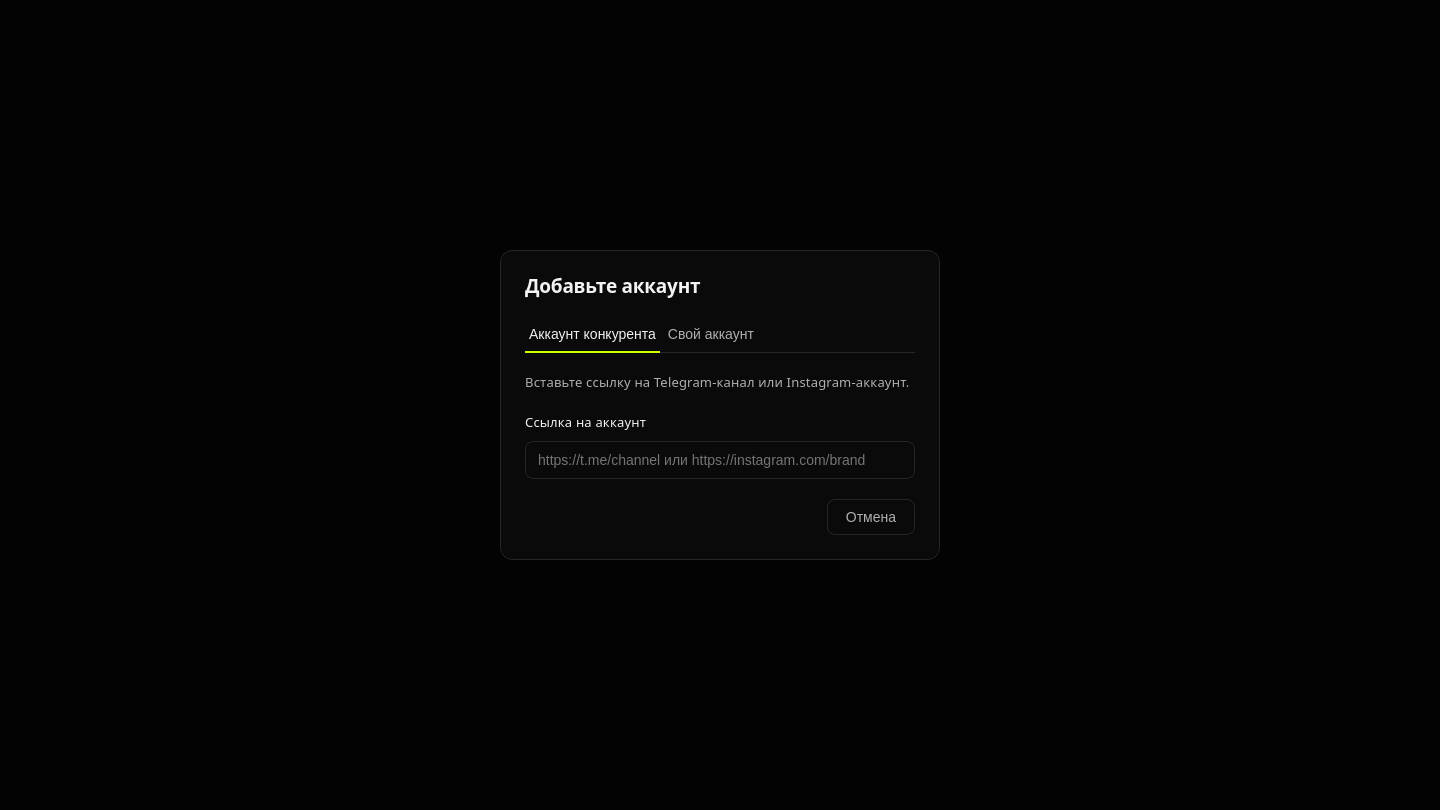
it: AddAccountModal › shows the resolved channel after a link is pasted
This screenshot has width=1440, height=810.
Type "https://t.me/somechannel" into the field labelled "Ссылка на аккаунт" at (720, 460), box [525,441,915,479]
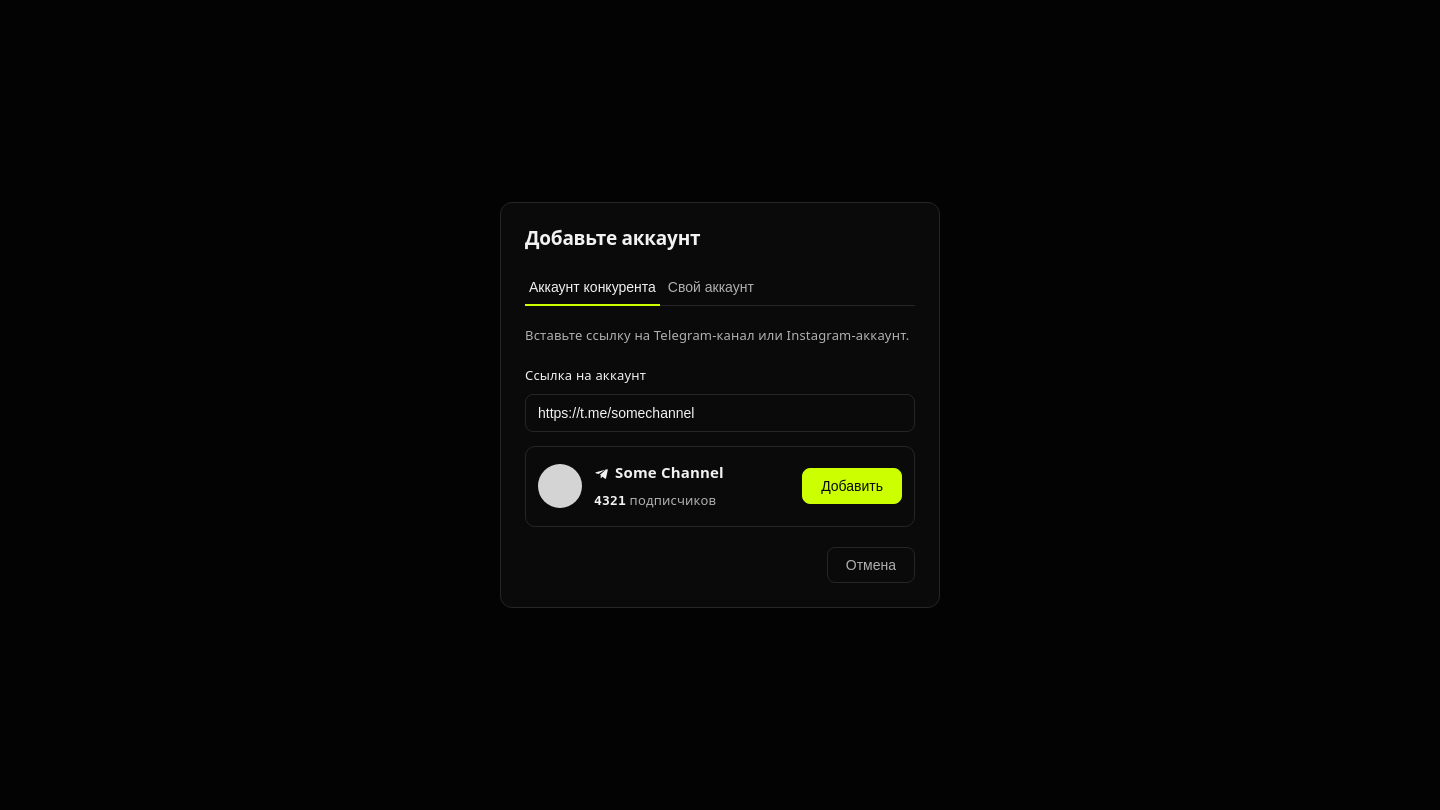
Result: the text "Some Channel" is shown at [594,462,724,482]
Result: the text "4321" is shown at [594,493,626,508]
